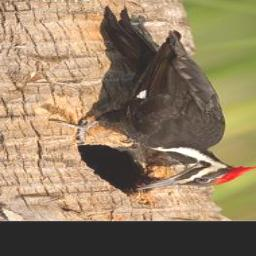Woodpecker: (47, 6, 256, 191)
